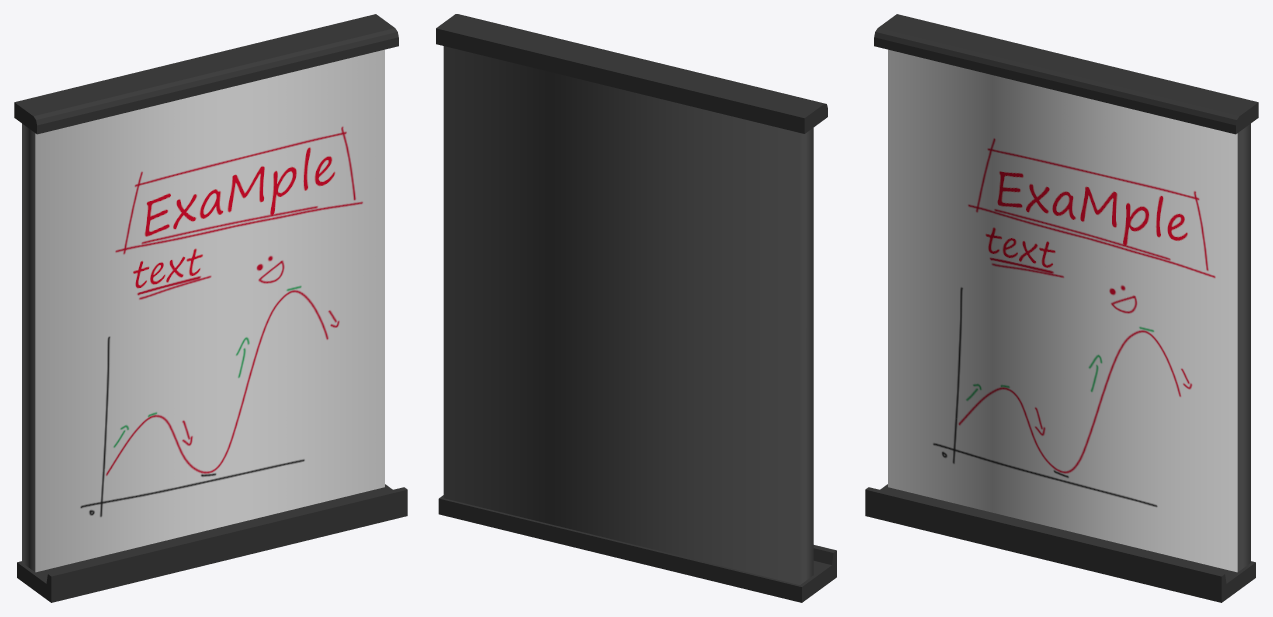
Rendered from whiteboard-stand.glb.
The picture shows the model from 3 angles, left to right: view 1: azimuth 30°, elevation 25°; view 2: azimuth 150°, elevation 25°; view 3: azimuth 330°, elevation 25°; orthographic projection.
Parts seen in each view (by area): view 1: WhiteBoard_Stand; view 2: WhiteBoard_Stand; view 3: WhiteBoard_Stand.
Boxes of the visible parts, box(x1,y1,x2,y2) form: WhiteBoard_Stand: box(14, 14, 407, 602); WhiteBoard_Stand: box(436, 14, 836, 602); WhiteBoard_Stand: box(865, 14, 1258, 602).
Bounding box in the file's own units: 0.8279 × 1.04 × 0.1362.
2 materials, 2 textured.
